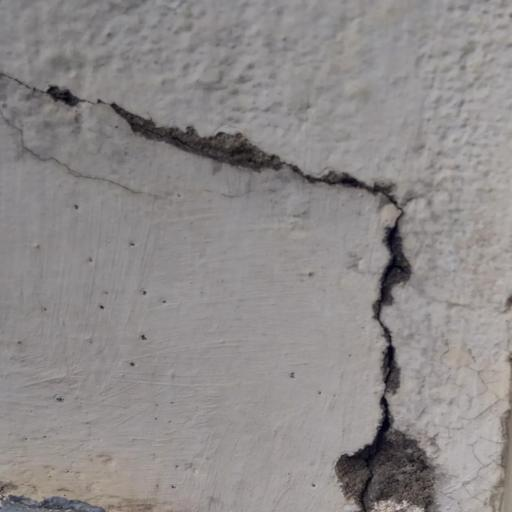major_crack: (3, 47, 451, 512)
